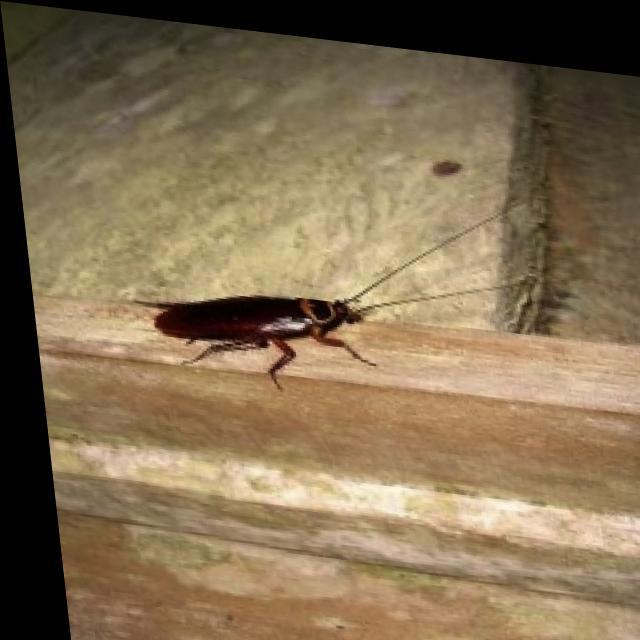cockroach: (128, 195, 526, 395)
